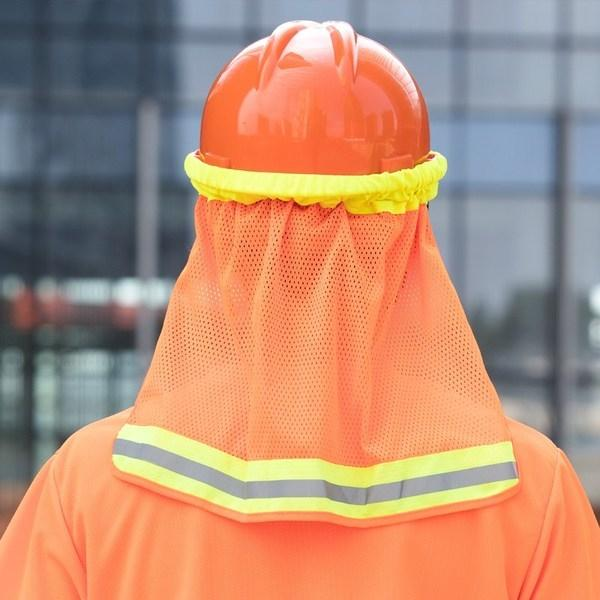helmet: (201, 16, 434, 169)
